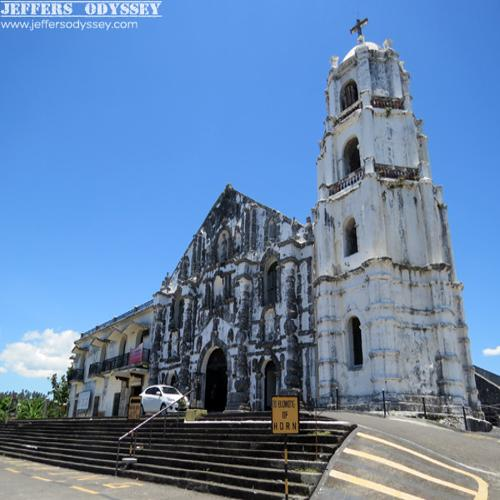Daraga Church: (153, 11, 485, 430)
